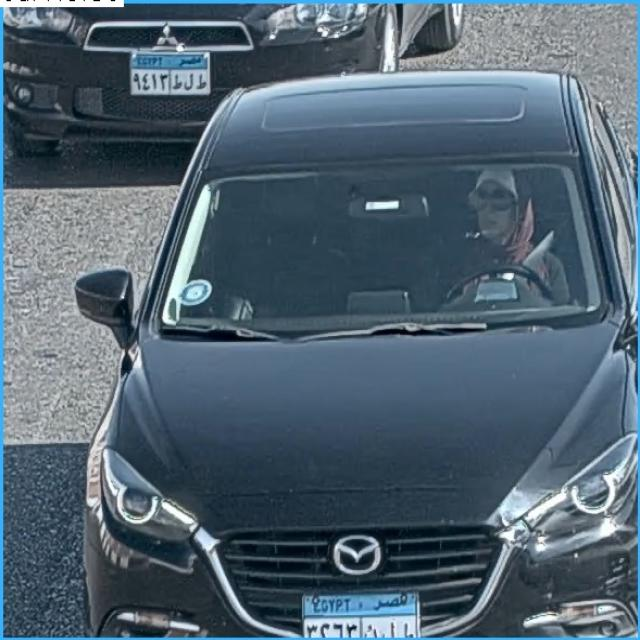windshield: (160, 171, 610, 328)
